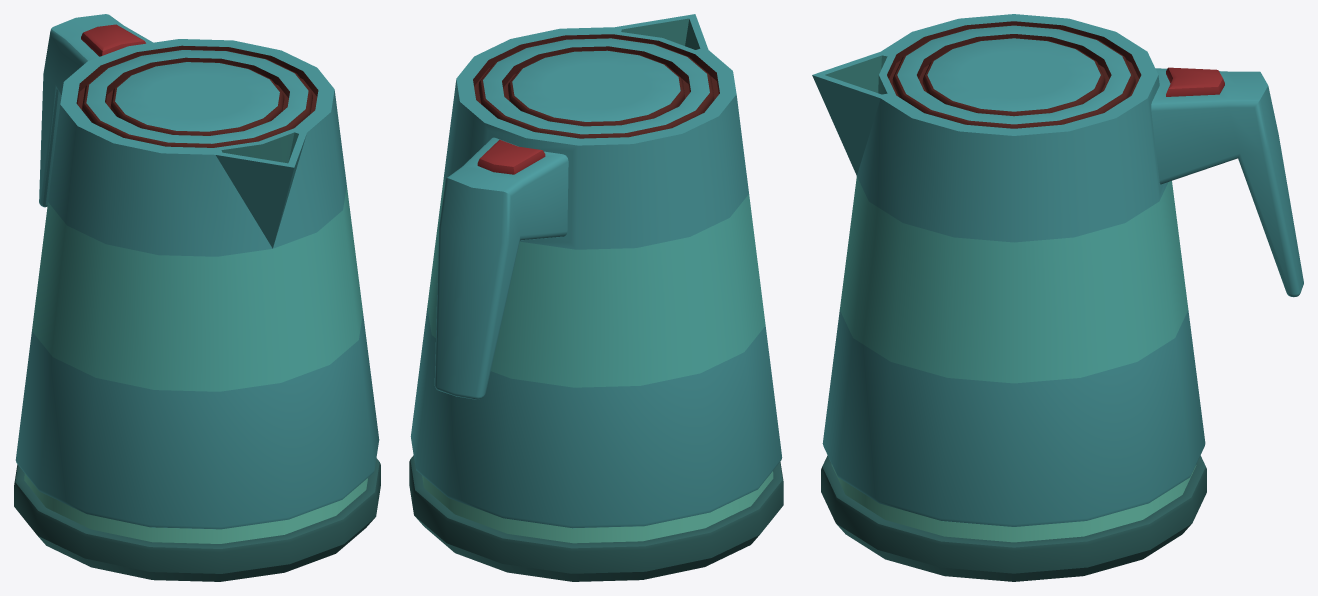
File: Kettle.fbx
3 views of the same model, side by side, from view 1: azimuth 30°, elevation 25°; view 2: azimuth 150°, elevation 25°; view 3: azimuth 270°, elevation 25° (orthographic). The views are drawn at different scales.
Parts seen in each view (by area): view 1: Cylinder.028; view 2: Cylinder.028; view 3: Cylinder.028.
Boxes of the visible parts, <box> form: Cylinder.028: <box>14,14,380,581</box>; Cylinder.028: <box>409,14,783,581</box>; Cylinder.028: <box>812,14,1303,581</box>.
Bounding box in the file's own units: 113 × 140 × 144.
